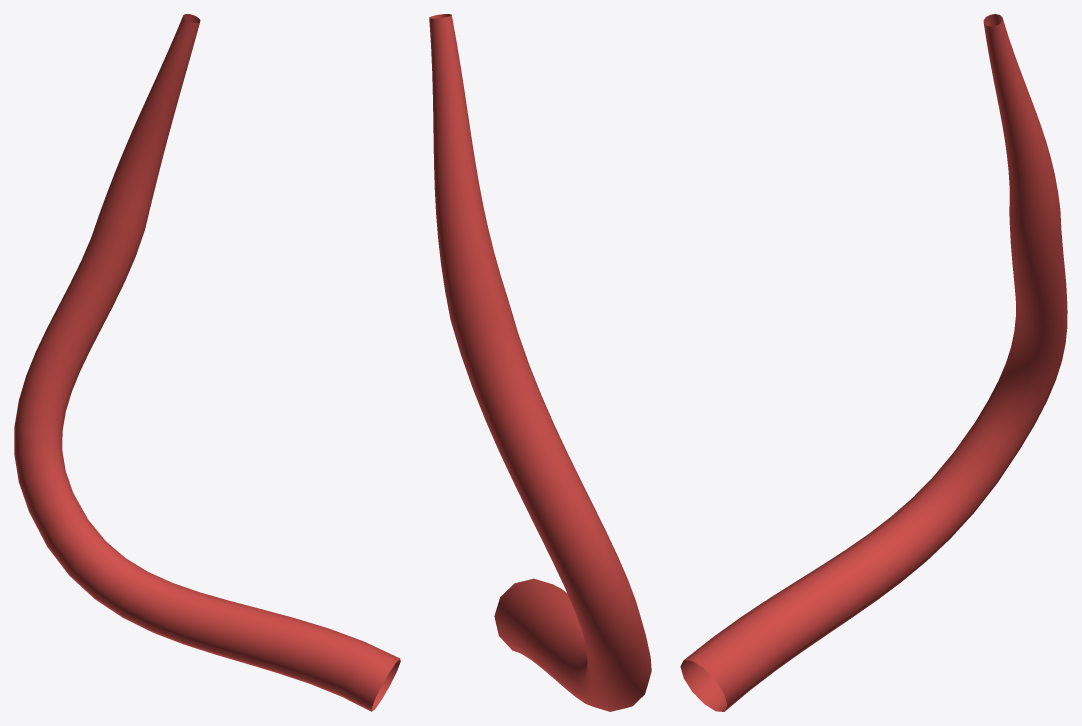
3 renders of one model, left to right at view 1: azimuth 30°, elevation 25°; view 2: azimuth 150°, elevation 25°; view 3: azimuth 270°, elevation 25°, orthographic. The views are drawn at different scales.
Visible parts, largest first — view 1: 右侧胫后动脉跟支; view 2: 右侧胫后动脉跟支; view 3: 右侧胫后动脉跟支.
Part boxes in pixels (left/top/right/bottom): 右侧胫后动脉跟支: left=14, top=14, right=400, bottom=711; 右侧胫后动脉跟支: left=429, top=14, right=651, bottom=711; 右侧胫后动脉跟支: left=680, top=14, right=1067, bottom=711.
Size of the model in its own units: 0.0136 by 0.0326 by 0.0173.
